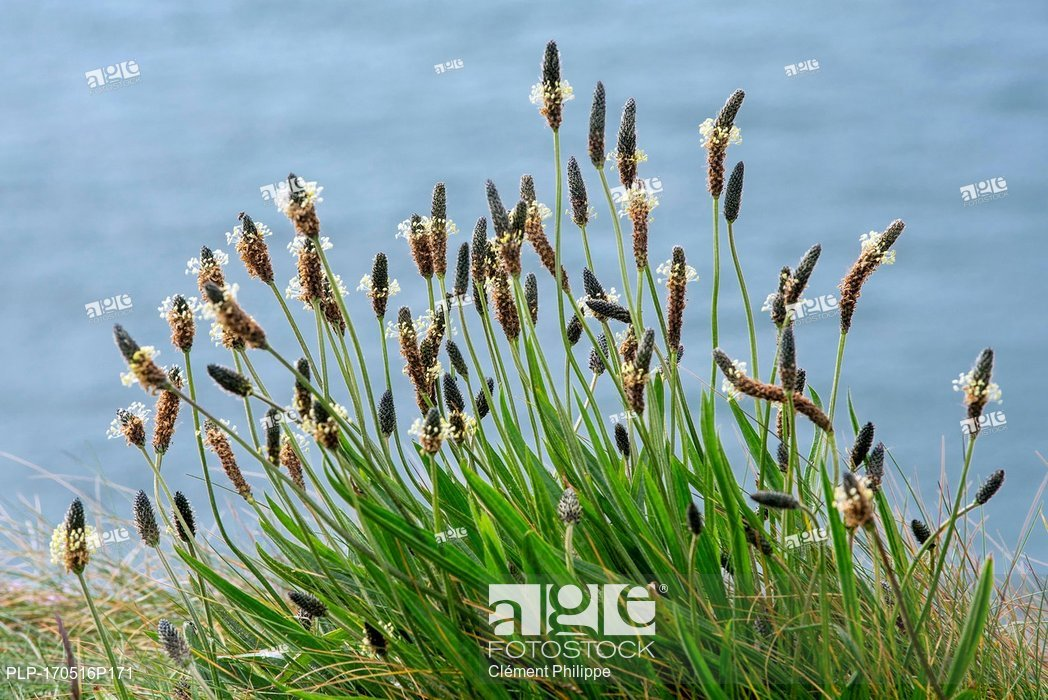buckhorn plantain: (91, 20, 1013, 686)
